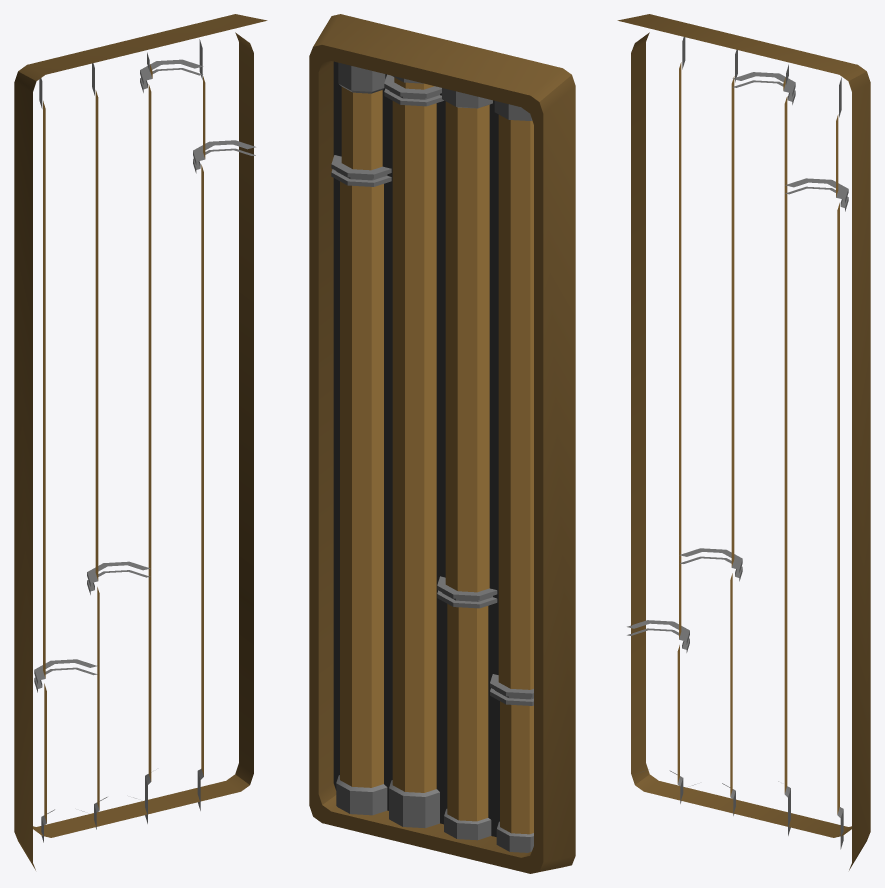
File: Lab_Details_Pipes_Long.gltf
3 views of the same model, side by side, from view 1: azimuth 30°, elevation 25°; view 2: azimuth 150°, elevation 25°; view 3: azimuth 330°, elevation 25° (orthographic).
Visible parts, largest first — view 1: Lab_Details_Pipes_Long; view 2: Lab_Details_Pipes_Long; view 3: Lab_Details_Pipes_Long.
Part boxes in pixels (x1,y1,x2,y2): Lab_Details_Pipes_Long: (14,14,267,870); Lab_Details_Pipes_Long: (309,14,575,873); Lab_Details_Pipes_Long: (617,14,870,870).
Size of the model in its own units: 0.6492 by 2 by 0.1176.
